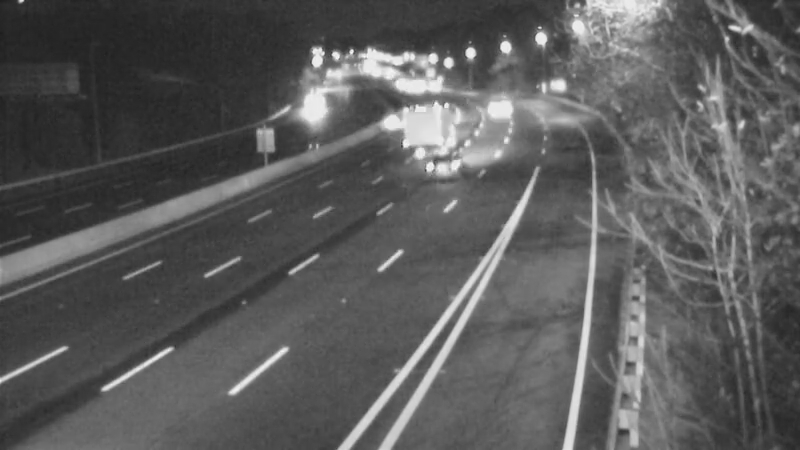vehicle: (412, 123, 492, 203), (475, 89, 525, 139), (370, 97, 420, 147), (400, 108, 450, 158), (285, 87, 335, 137)
